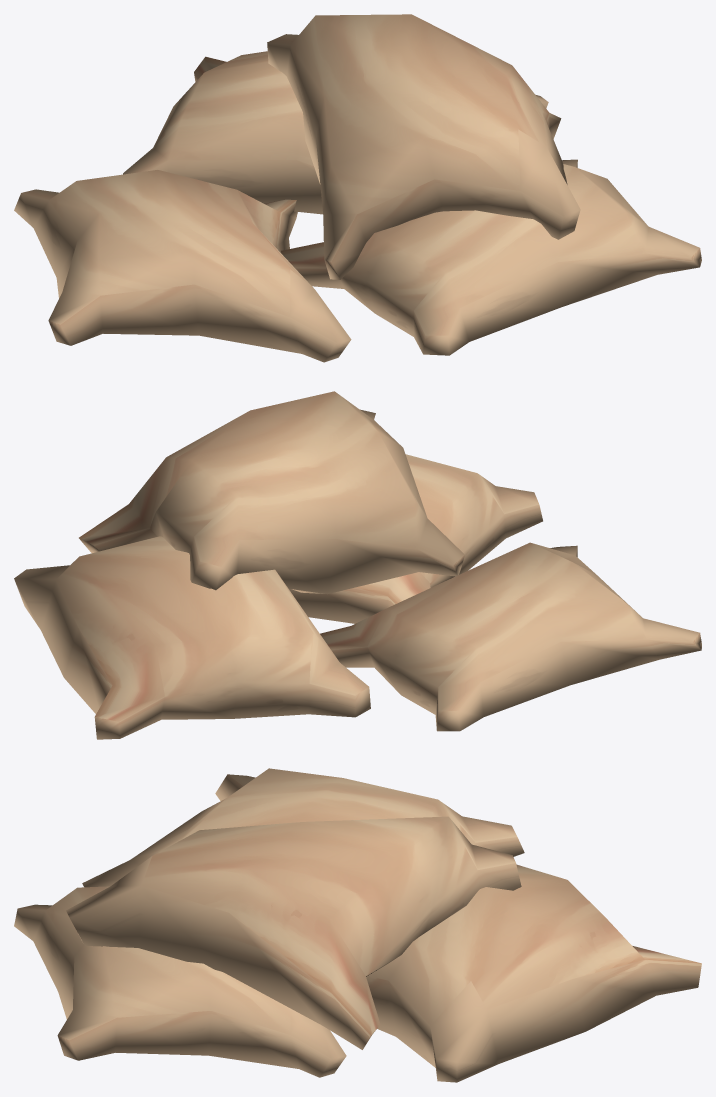
Rendered from SM_PROP_sack_11.fbx.
The picture shows the model from 3 angles, top to bottom: view 1: azimuth 30°, elevation 25°; view 2: azimuth 150°, elevation 25°; view 3: azimuth 270°, elevation 25°; orthographic projection. The views are drawn at different scales.
Parts seen in each view (by area): view 1: SM_PROP_sack_11; view 2: SM_PROP_sack_11; view 3: SM_PROP_sack_11.
Part boxes in pixels (x1,y1,x2,y2): SM_PROP_sack_11: (14,14,701,362); SM_PROP_sack_11: (14,391,701,739); SM_PROP_sack_11: (14,768,701,1082).
Size of the model in its own units: 127 by 36.43 by 129.
